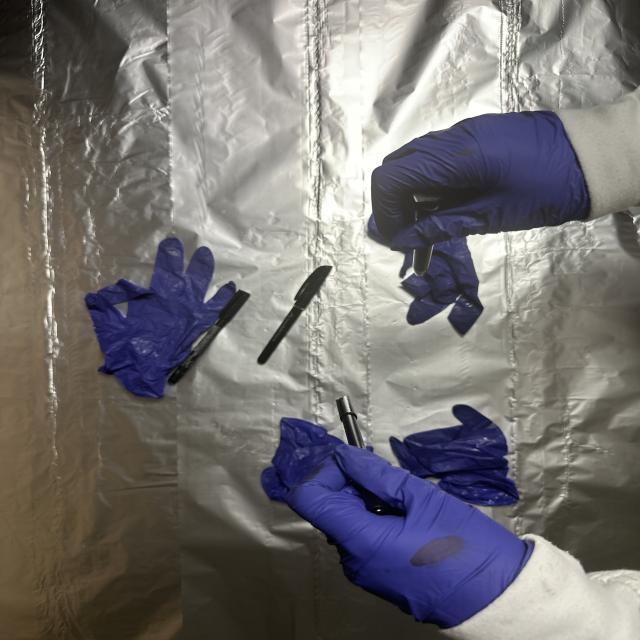gloves_contaminated: (288, 446, 532, 622), (372, 112, 591, 248)
